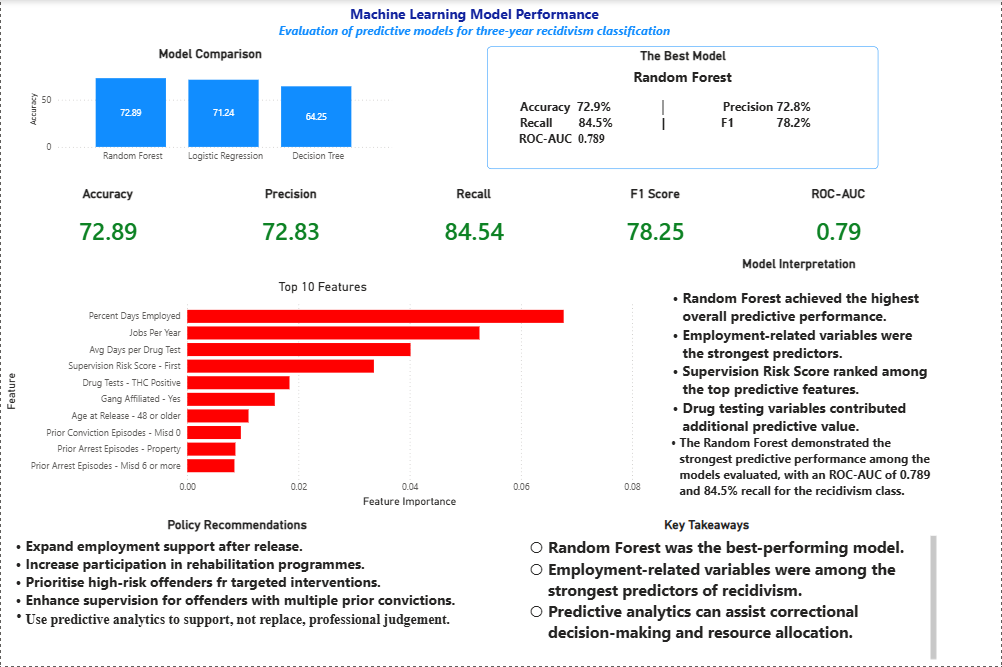

This screenshot's page, from the dashboard's own definition file:
{"tool":"powerbi","page":{"name":"Machine Learning Model Performance","canvas":[1350,900],"ordinal":2},"visuals":[{"type":"textbox","box":[263.9,0,751.3,63.1],"z":0},{"type":"clusteredColumnChart","title":"Model Comparison","fields":{"Category":["Model Table.Model"],"Y":["Sum(Model Table.Accuracy)"]},"box":[32.4,63.1,500.3,165.2],"z":1000},{"type":"textbox","title":"The Best Model","box":[655.8,63.1,527.9,165.2],"z":2000},{"type":"cardVisual","title":"Accuracy","fields":{"Data":["Max(Model Table.Accuracy)"]},"box":[64.8,250.5,158.7,95.5],"z":3000},{"type":"cardVisual","title":"Precision","fields":{"Data":["Max(Model Table.Precision)"]},"box":[311.3,250.5,158.7,95.5],"z":4000},{"type":"cardVisual","title":"Recall","fields":{"Data":["Max(Model Table.Recall)"]},"box":[557.8,250.5,158.7,95.5],"z":5000},{"type":"cardVisual","title":"F1 Score","fields":{"Data":["Max(Model Table.F1)"]},"box":[804.4,250.5,158.7,95.5],"z":6000},{"type":"cardVisual","title":"ROC-AUC","fields":{"Data":["Max(Model Table.ROC_AUC)"]},"box":[1050.9,250.5,158.7,95.5],"z":7000},{"type":"textbox","title":"Model Interpretation","box":[886.5,346.1,380.5,352.2],"z":8000},{"type":"barChart","title":"Top 10 Features","fields":{"Category":["Sheet1 (2).Feature"],"Y":["Sum(Sheet1 (2).Importance)"]},"box":[0,376.5,868.3,311.7],"z":9000},{"type":"textbox","title":"Policy Recommendations","box":[0,698.3,637.6,202.4],"z":10000},{"type":"textbox","title":"Key Takeaways","box":[637.6,698.3,629.5,202.4],"z":11000}]}

Visuals, with their boxes in screenshot pixels (x1, y1, x2, y2), scaled from the page's 1350x900 canvas onto the 1002x667 screenshot:
textbox: (x1=196, y1=0, x2=754, y2=47)
"Model Comparison" clusteredColumnChart: (x1=24, y1=47, x2=395, y2=169)
"The Best Model" textbox: (x1=487, y1=47, x2=879, y2=169)
"Accuracy" cardVisual: (x1=48, y1=186, x2=166, y2=256)
"Precision" cardVisual: (x1=231, y1=186, x2=349, y2=256)
"Recall" cardVisual: (x1=414, y1=186, x2=532, y2=256)
"F1 Score" cardVisual: (x1=597, y1=186, x2=715, y2=256)
"ROC-AUC" cardVisual: (x1=780, y1=186, x2=898, y2=256)
"Model Interpretation" textbox: (x1=658, y1=256, x2=940, y2=518)
"Top 10 Features" barChart: (x1=0, y1=279, x2=644, y2=510)
"Policy Recommendations" textbox: (x1=0, y1=518, x2=473, y2=666)
"Key Takeaways" textbox: (x1=473, y1=518, x2=940, y2=666)
